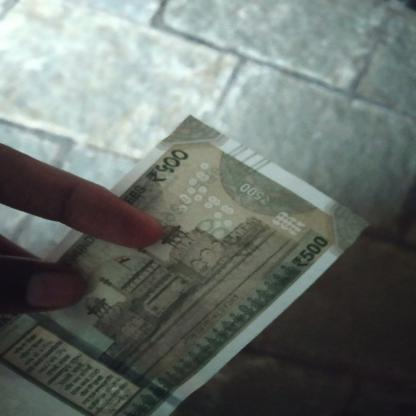New500Back: (0, 121, 341, 416)
